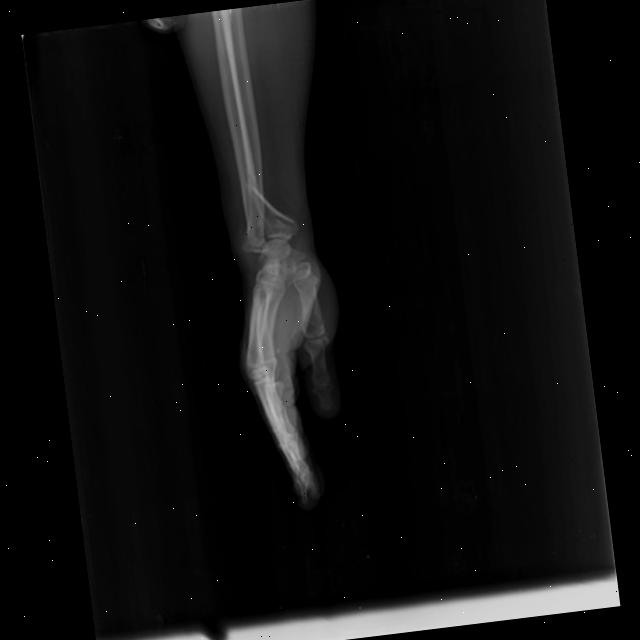fractured: (240, 162, 306, 247)
